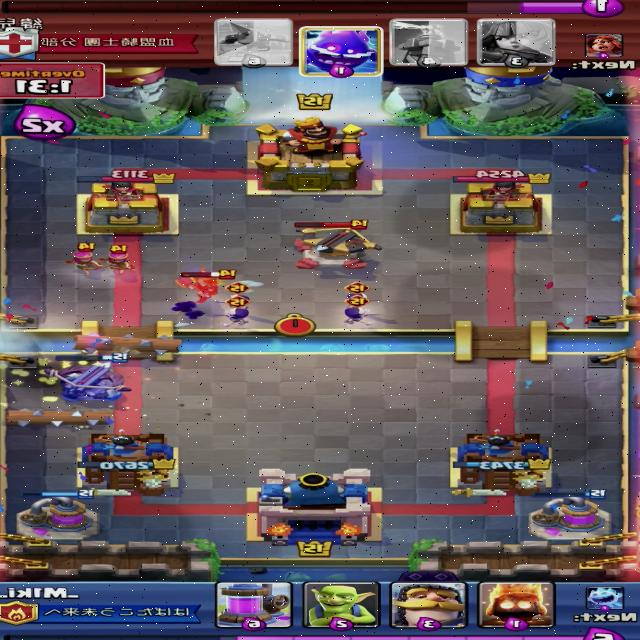Enemy-Archer: (62, 242, 110, 275), (98, 243, 138, 276)
Enemy-Log: (0, 406, 120, 429)
Enemy-Skeleton-Evo: (342, 294, 374, 327), (222, 294, 252, 326), (341, 282, 372, 311), (222, 282, 252, 311)
Enemy-Valkyrie: (172, 268, 238, 303)
Enemy-XBow: (288, 219, 378, 271)
Player-ElixirPump: (524, 489, 613, 542), (13, 489, 100, 542)
Player-XBow: (37, 352, 131, 402)
